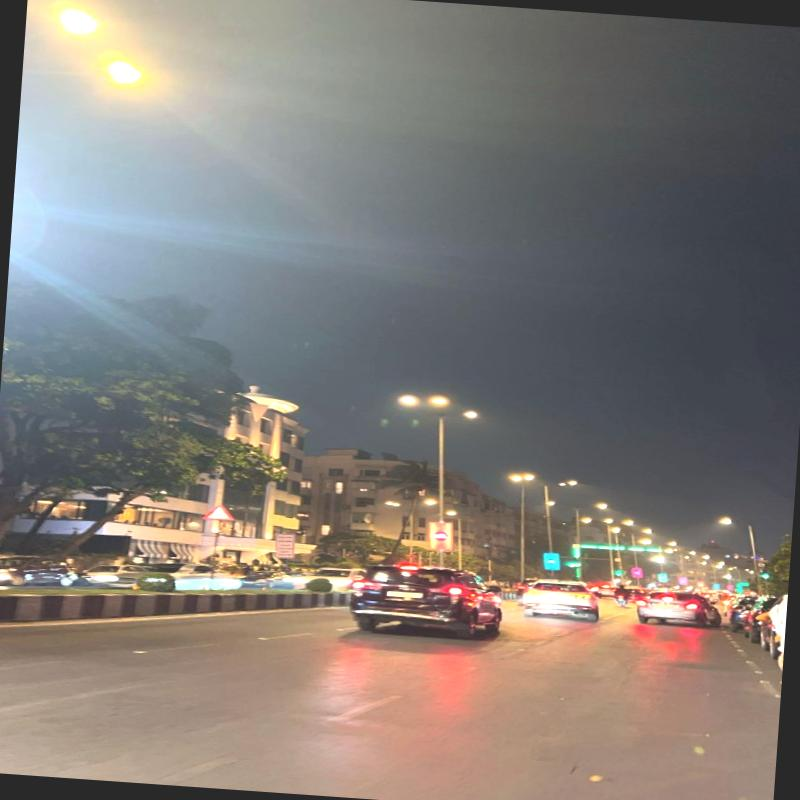license plate on a car: (387, 591, 421, 599)
